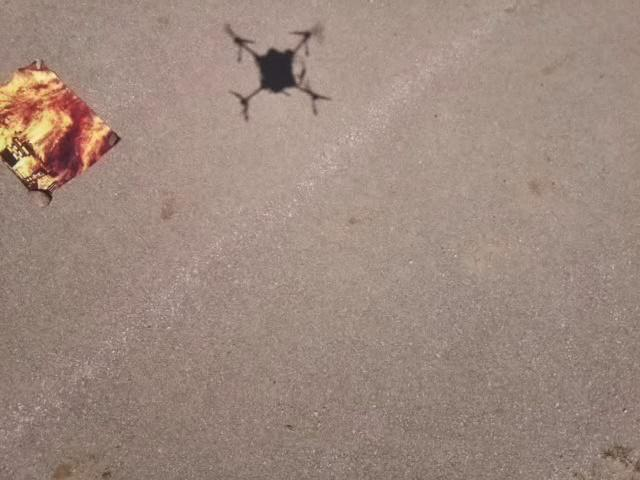fire-poster: (0, 57, 122, 207)
